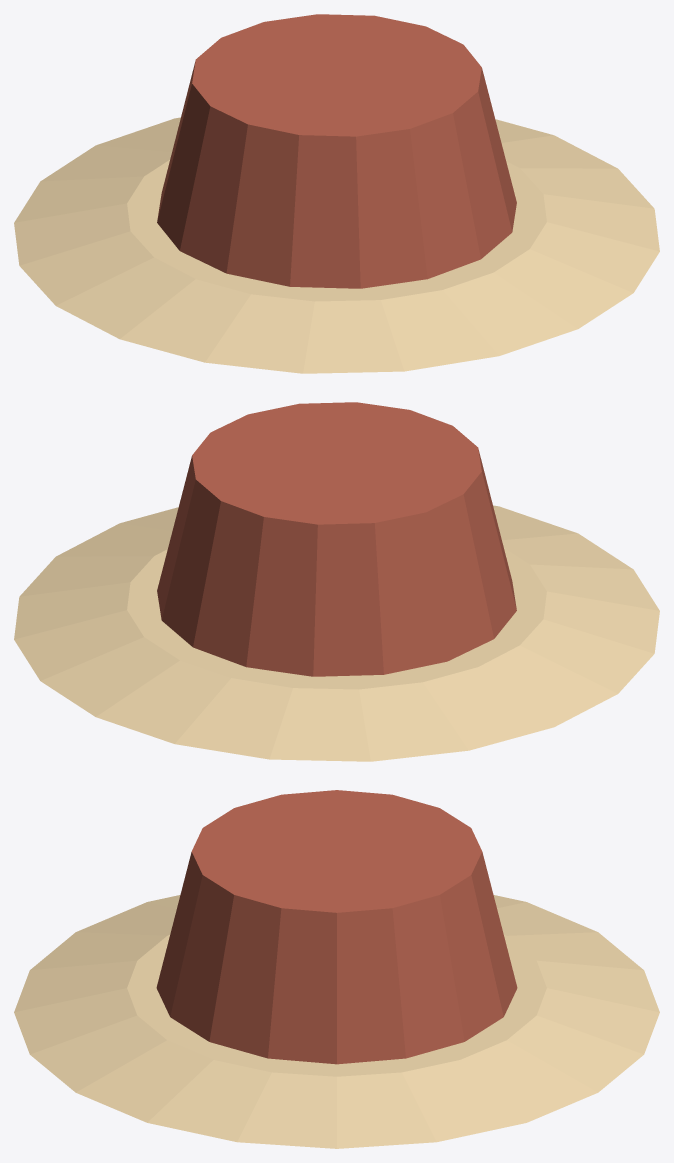
File: outfit_sunhat.glb
The picture shows the model from 3 angles, top to bottom: view 1: azimuth 30°, elevation 25°; view 2: azimuth 150°, elevation 25°; view 3: azimuth 270°, elevation 25°; orthographic projection.
Parts seen in each view (by area): view 1: brim, crown; view 2: brim, crown; view 3: brim, crown.
Part boxes in pixels (<box>): brim: <box>14,117,659,373</box>; crown: <box>157,14,516,288</box>; brim: <box>14,505,659,761</box>; crown: <box>157,402,516,676</box>; brim: <box>14,895,659,1148</box>; crown: <box>156,790,517,1064</box>.
Size of the model in its own units: 1.2 by 0.33 by 1.2.
